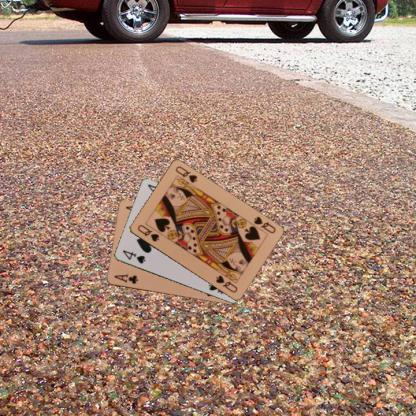4s: (120, 247, 146, 265)
Ac: (112, 272, 139, 286)
Qs: (135, 222, 160, 243), (251, 214, 277, 234)
